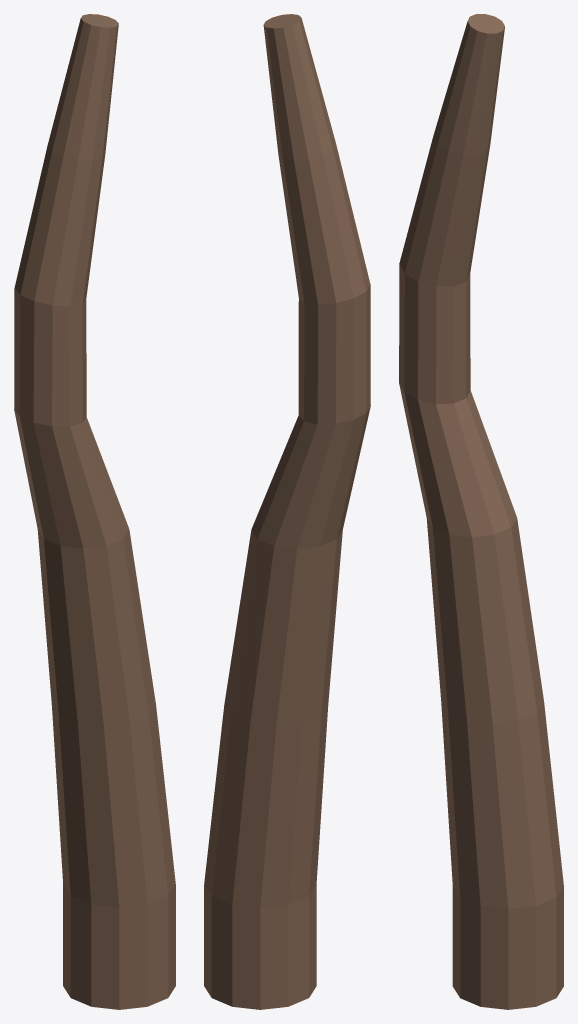
The model's file is Stick 1.4.fbx.
3 renders of one model, left to right at view 1: azimuth 30°, elevation 25°; view 2: azimuth 150°, elevation 25°; view 3: azimuth 330°, elevation 25°, orthographic.
Parts seen in each view (by area): view 1: Stick A4; view 2: Stick A4; view 3: Stick A4.
Boxes of the visible parts, x1,y1,x2,y2 form: Stick A4: (14,14,175,1009); Stick A4: (204,14,370,1009); Stick A4: (399,14,563,1009).
Bounding box in the file's own units: 311 × 1909 × 200.
